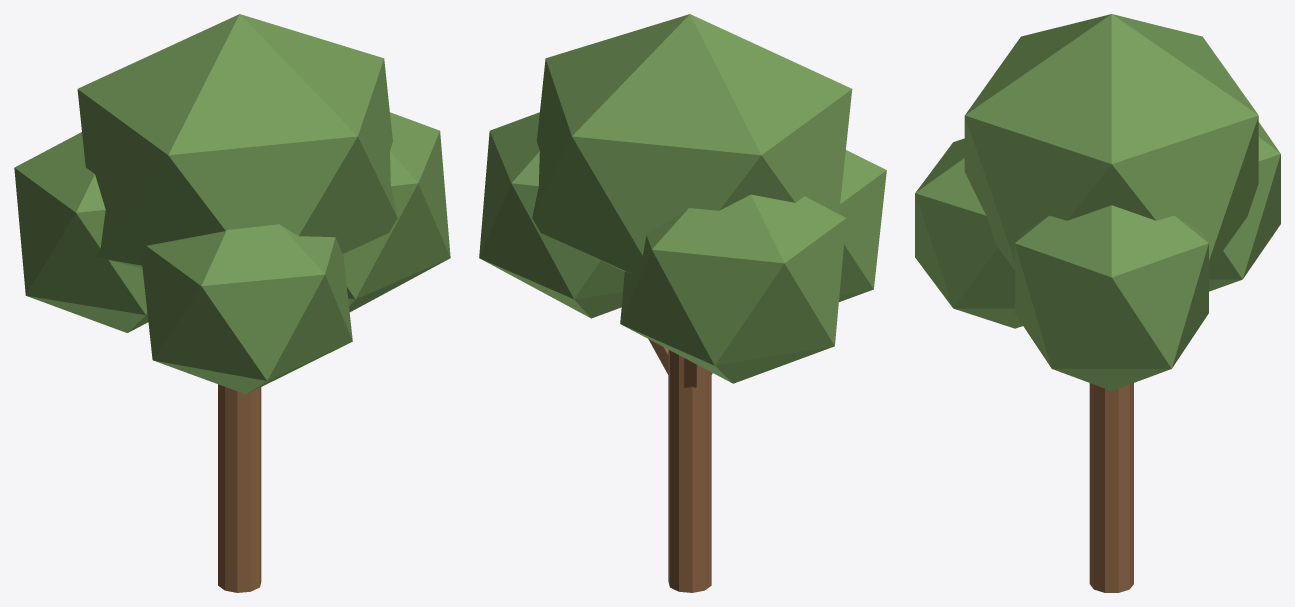
The model's file is Tree_Stylized.fbx.
The picture shows the model from 3 angles, left to right: view 1: azimuth 30°, elevation 25°; view 2: azimuth 150°, elevation 25°; view 3: azimuth 270°, elevation 25°; orthographic projection.
Visible parts, largest first — view 1: Tree_Stylized; view 2: Tree_Stylized; view 3: Tree_Stylized.
Part boxes in pixels (x1,y1,x2,y2): Tree_Stylized: [14, 14, 450, 592]; Tree_Stylized: [479, 14, 886, 592]; Tree_Stylized: [915, 14, 1280, 592].
Size of the model in its own units: 635 by 910 by 529.
